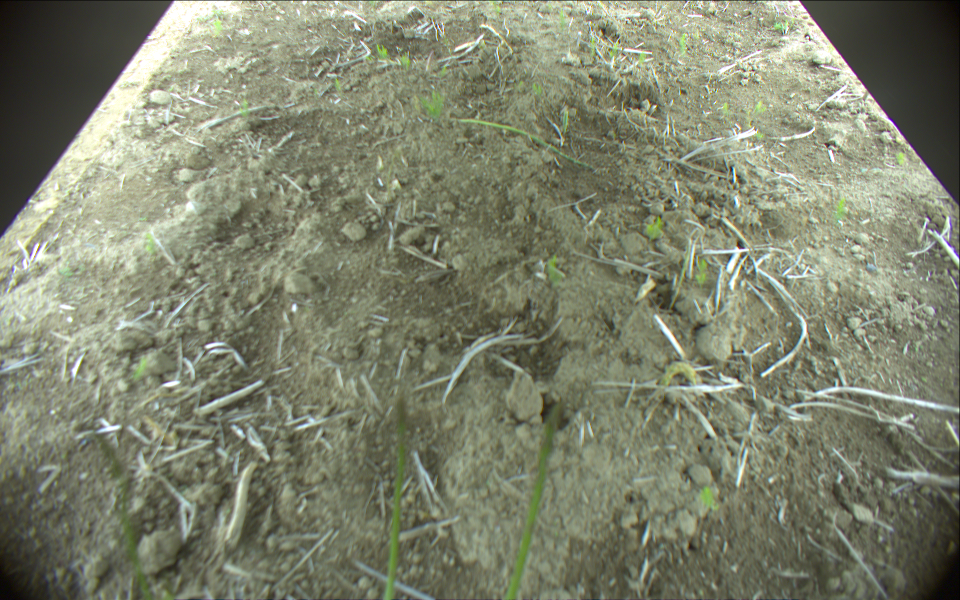aspa: (501, 401, 563, 600), (446, 116, 592, 168), (379, 397, 409, 600)
